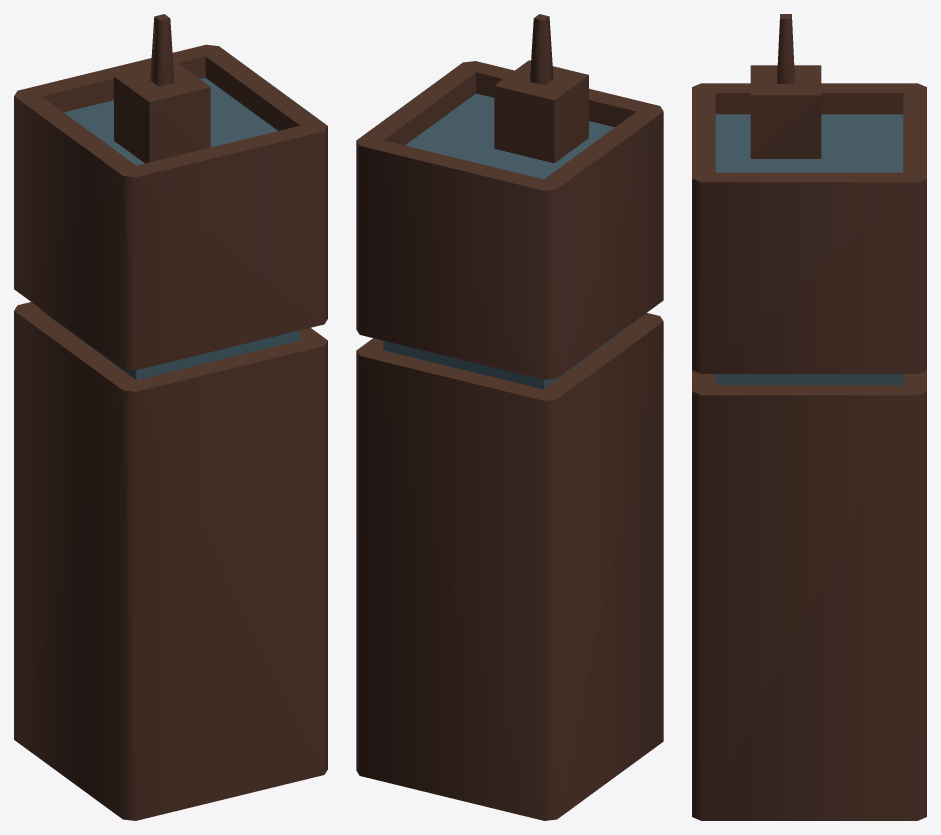
Rendered from block-d.high.7613cf9b.glb.
3 views of the same model, side by side, from view 1: azimuth 30°, elevation 25°; view 2: azimuth 150°, elevation 25°; view 3: azimuth 270°, elevation 25° (orthographic). The views are drawn at different scales.
Visible parts, largest first — view 1: block-d; view 2: block-d; view 3: block-d.
Boxes of the visible parts, left/top/right/bottom form: block-d: left=14, top=14, right=327, bottom=820; block-d: left=356, top=14, right=663, bottom=820; block-d: left=692, top=14, right=926, bottom=820.
Size of the model in its own units: 6 by 21 by 6.
